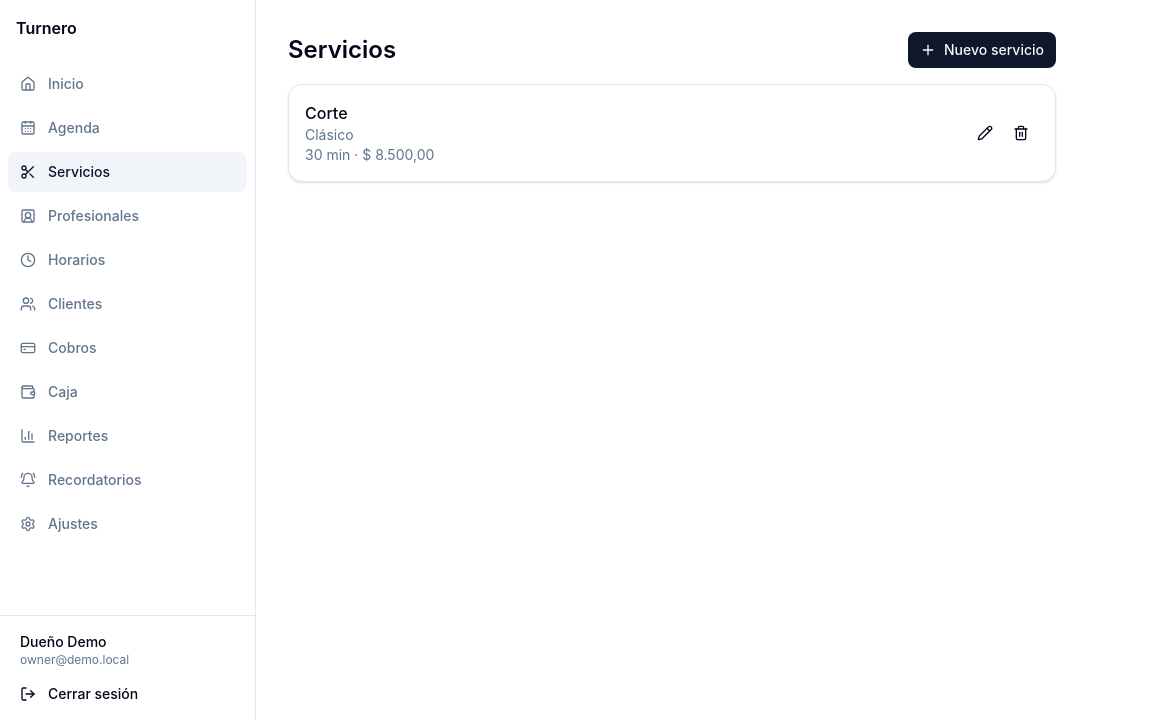
Scenario: services page › deletes a service after confirming
Click the button named "Eliminar Corte": (1021, 133) x1=1003 y1=115 x2=1039 y2=151
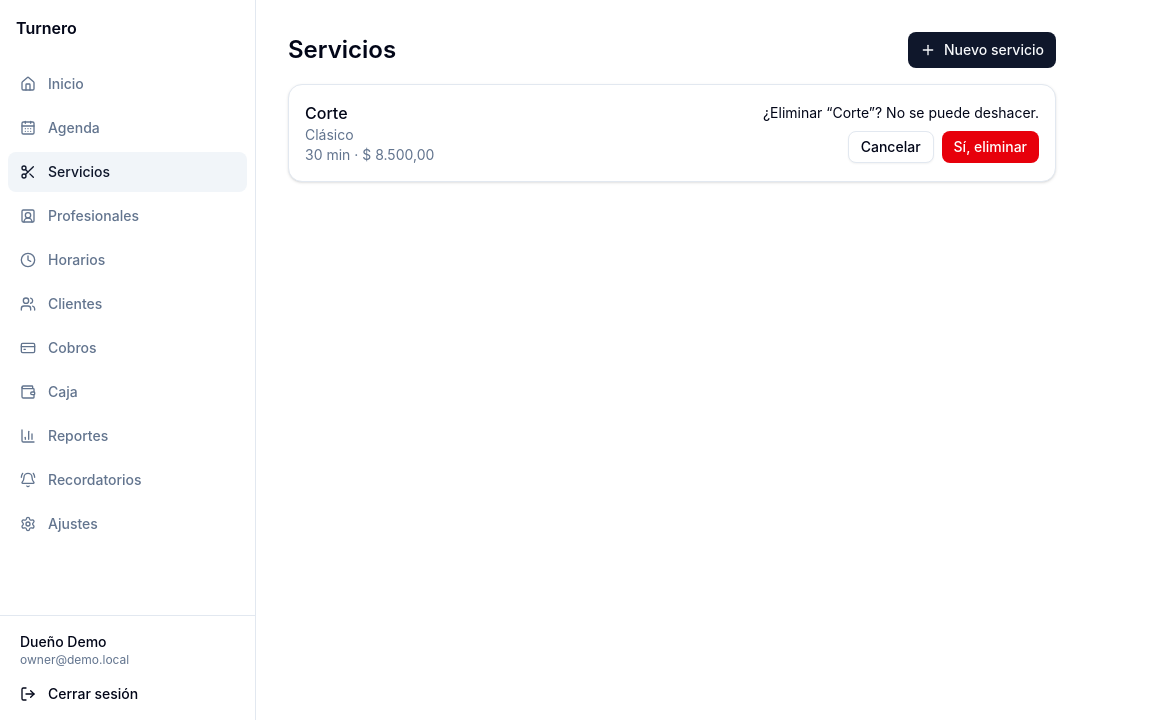
Click the button "Sí, eliminar": (990, 147) x1=942 y1=131 x2=1039 y2=163
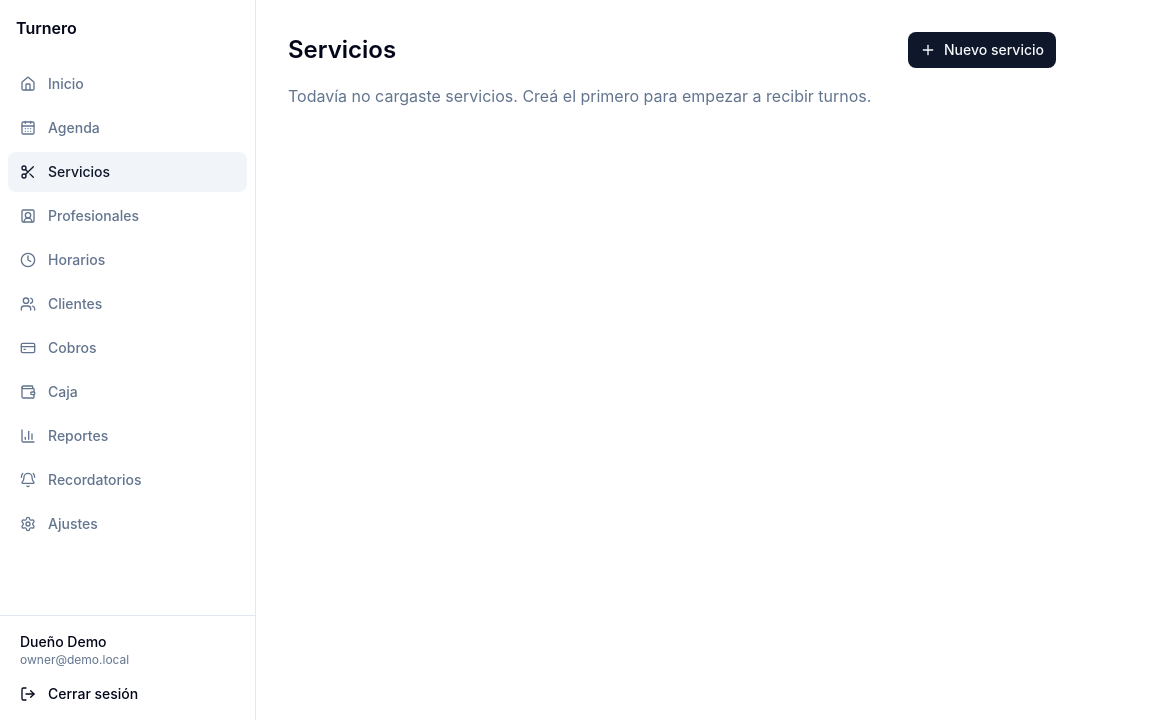
Expected: the text "Todavía no cargaste servicios. Creá el primero para empezar a recibir turnos." is shown, x1=288 y1=86 x2=871 y2=106
